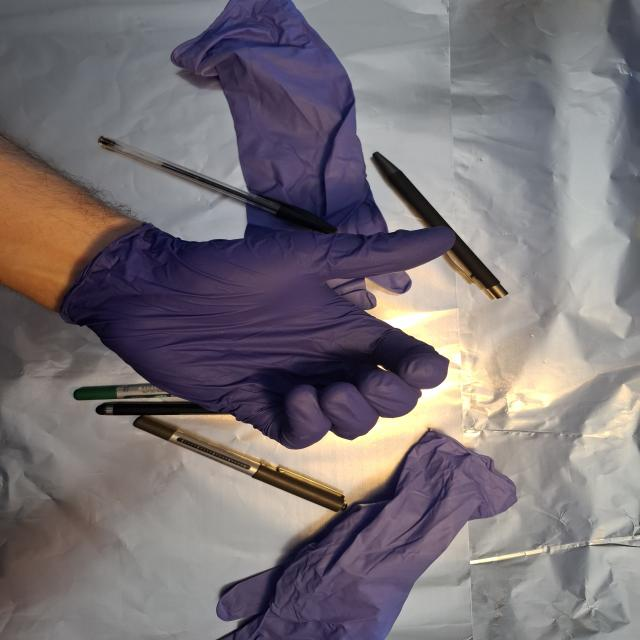glove_on: (64, 220, 462, 453)
